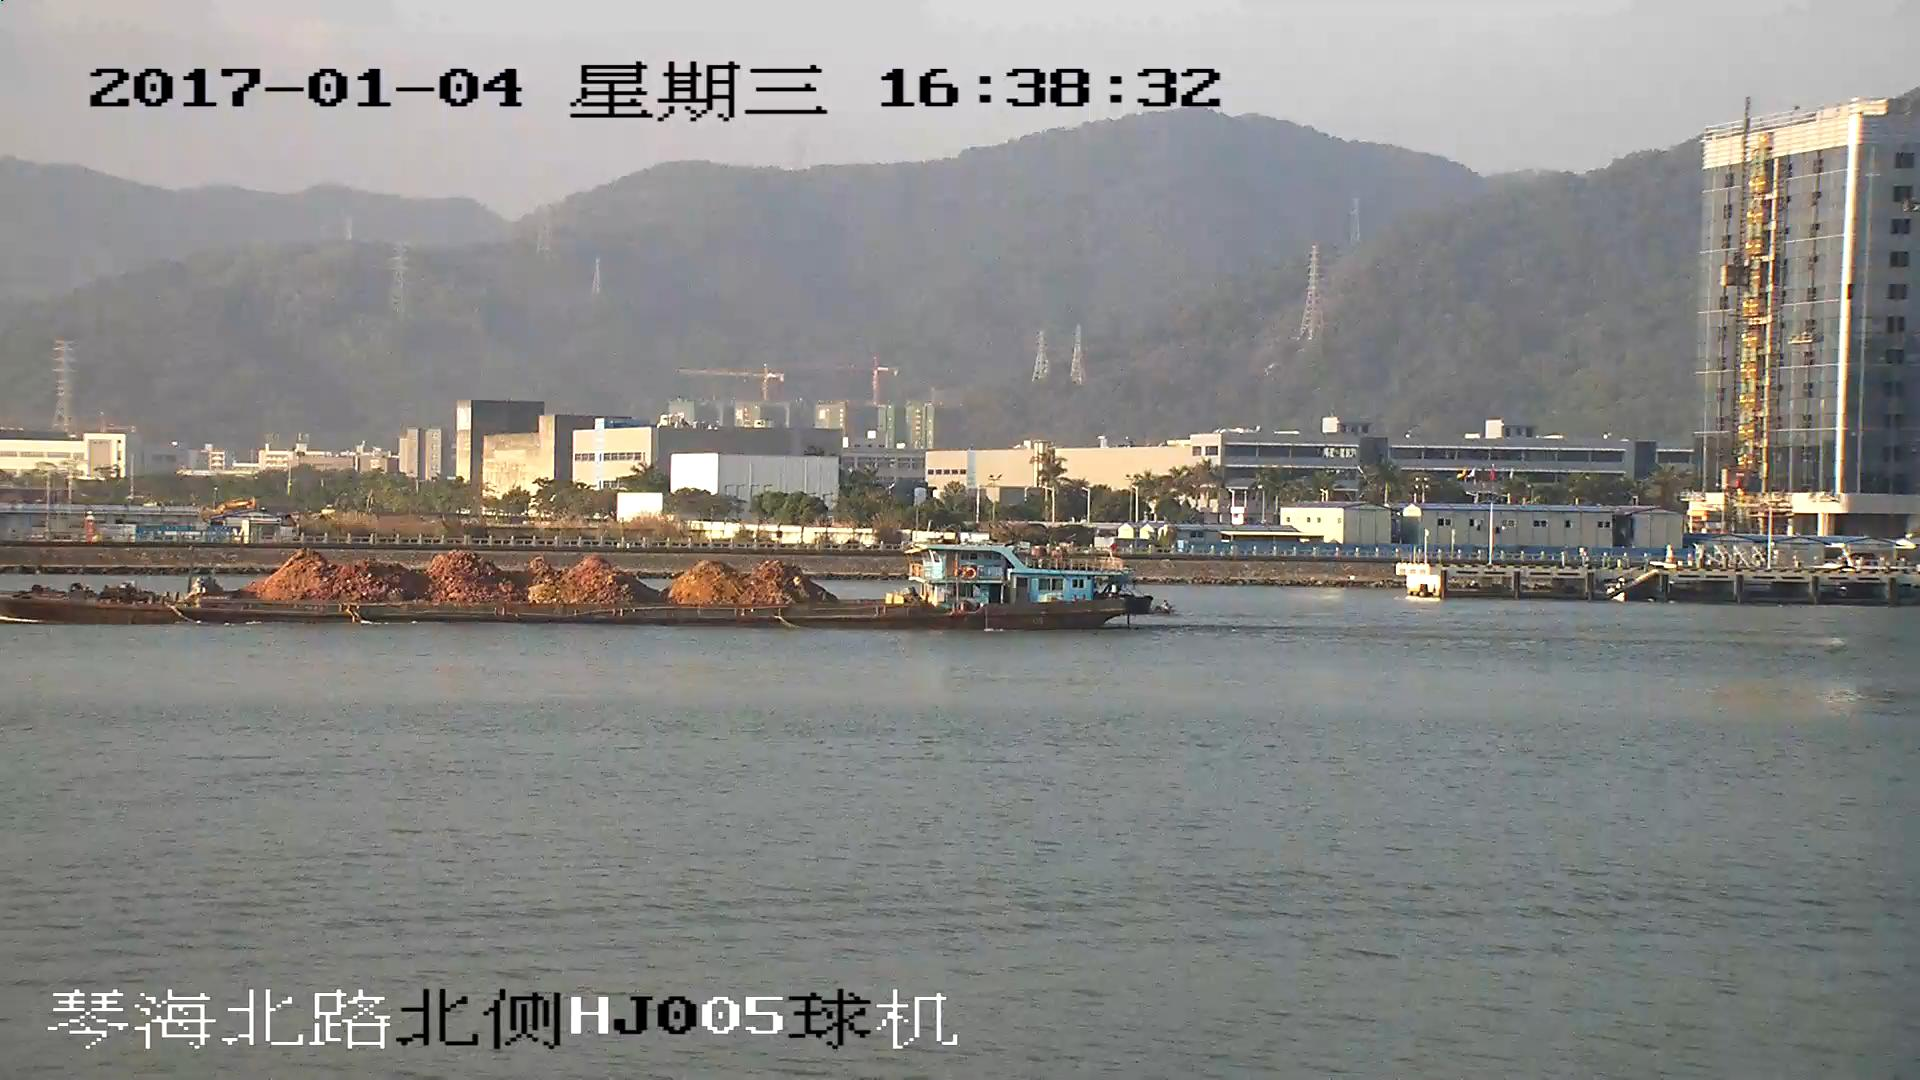ore carrier: (1, 540, 1151, 631)
